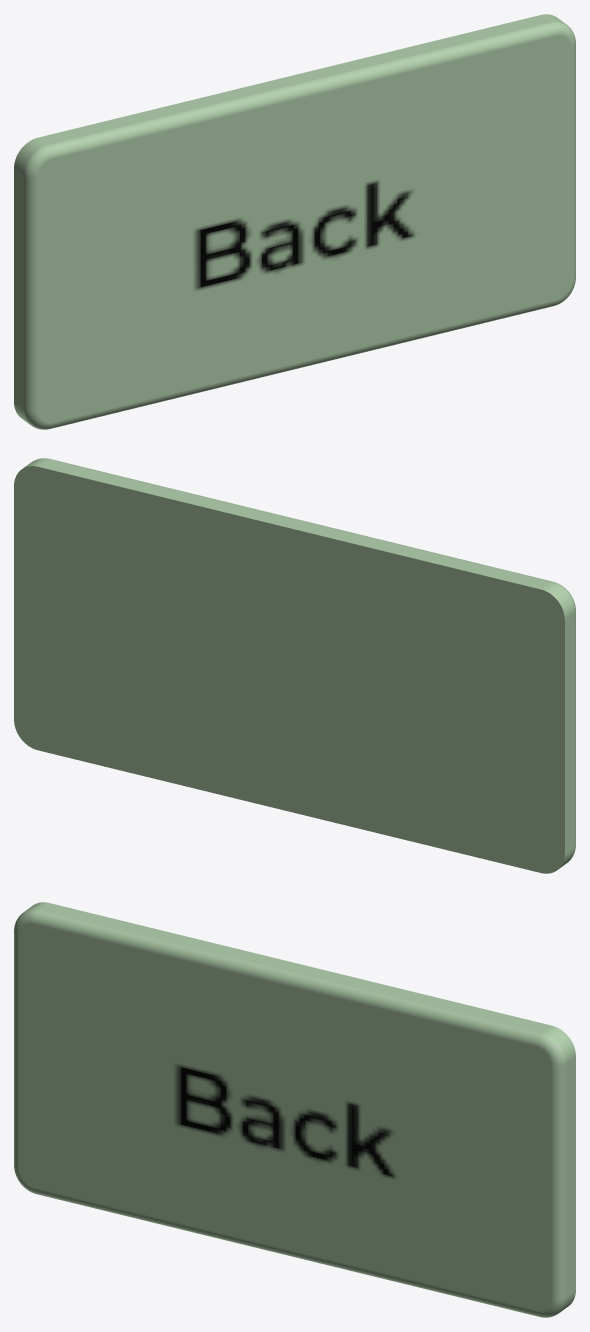
The model's file is BBack.glb.
The picture shows the model from 3 angles, top to bottom: view 1: azimuth 30°, elevation 25°; view 2: azimuth 150°, elevation 25°; view 3: azimuth 330°, elevation 25°; orthographic projection.
Parts seen in each view (by area): view 1: ButtonBack; view 2: ButtonBack; view 3: ButtonBack.
Part boxes in pixels (left/top/right/bottom): ButtonBack: left=14, top=14, right=575, bottom=429; ButtonBack: left=14, top=458, right=575, bottom=873; ButtonBack: left=14, top=902, right=575, bottom=1317.
Bounding box in the file's own units: 0.5208 × 0.2562 × 0.0249.
1 material, 1 textured.
